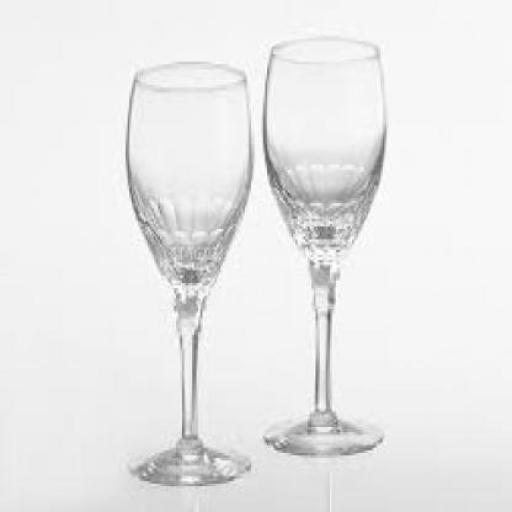glass: (126, 62, 248, 481), (263, 36, 383, 450)
